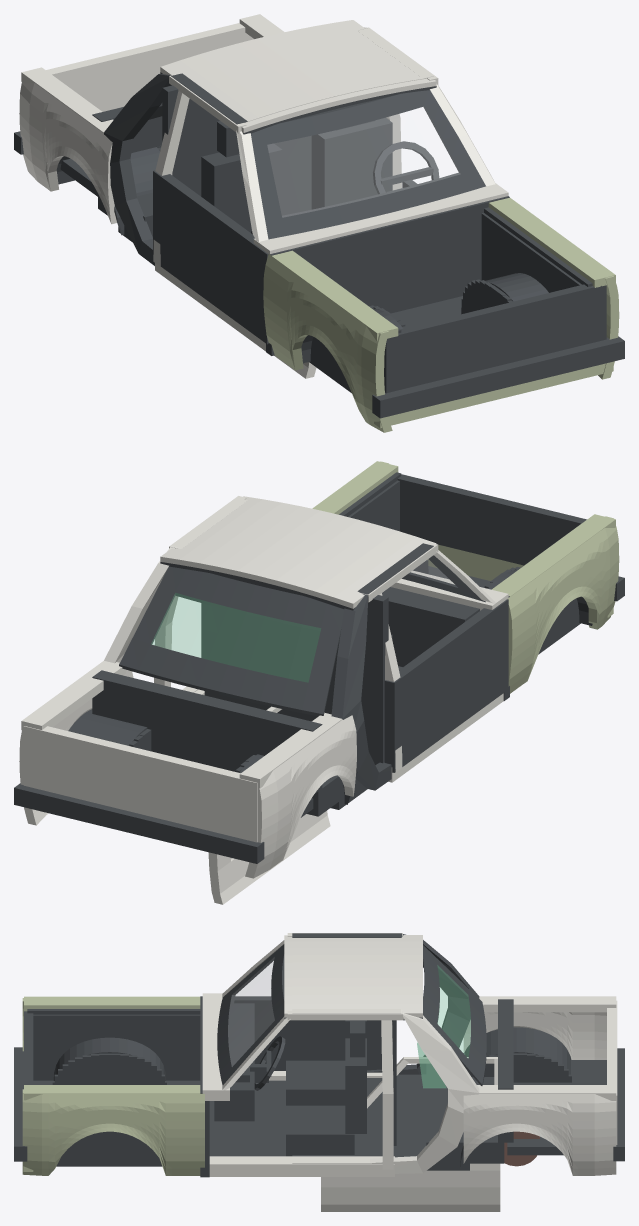
Rendered from lada_wrecks.glb.
3 renders of one model, top to bottom at view 1: azimuth 30°, elevation 25°; view 2: azimuth 150°, elevation 25°; view 3: azimuth 270°, elevation 25°, orthographic. The views are drawn at different scales.
Parts seen in each view (by area): view 1: left_front, right_rear; view 2: right_rear, left_front, door_panel; view 3: left_front, right_rear, door_panel.
Boxes of the visible parts, x1,y1,x2,y2 form: left_front: (153, 27, 624, 432); right_rear: (14, 14, 433, 265); right_rear: (14, 498, 433, 878); left_front: (154, 461, 624, 782); door_panel: (208, 706, 330, 904); left_front: (14, 933, 402, 1177); right_rear: (292, 933, 624, 1175); door_panel: (321, 1057, 500, 1211).
Size of the model in its own units: 1.57 by 1.72 by 3.92.
